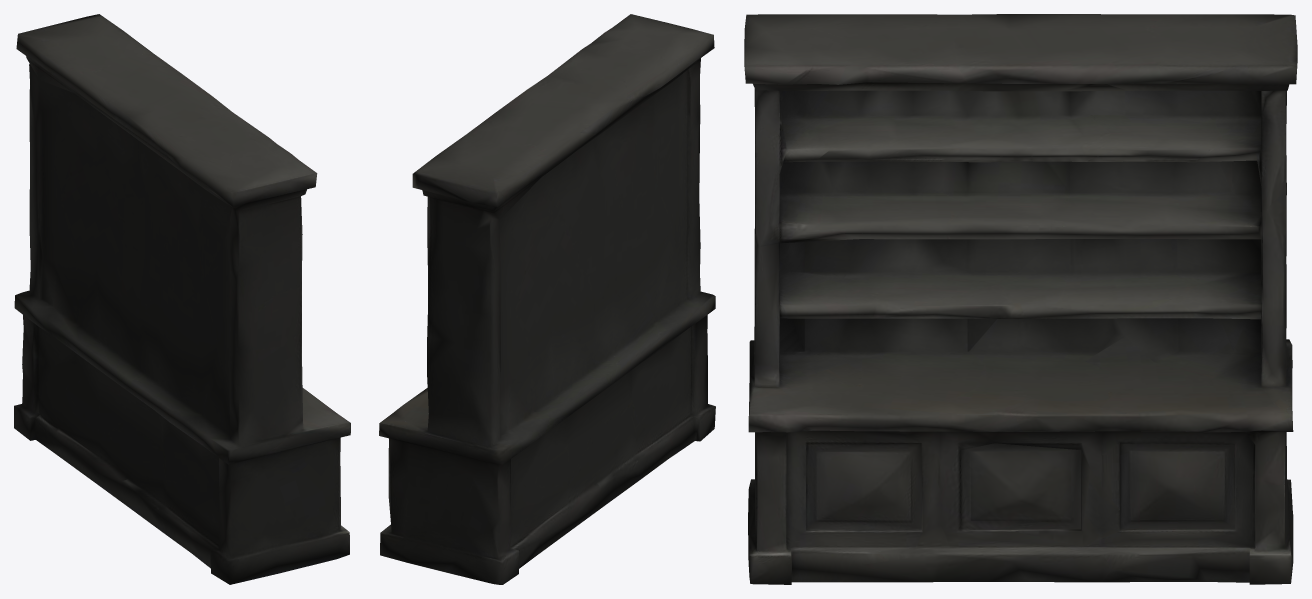
Rendered from kitchen_dresser.glb.
The picture shows the model from 3 angles, left to right: view 1: azimuth 30°, elevation 25°; view 2: azimuth 150°, elevation 25°; view 3: azimuth 270°, elevation 25°; orthographic projection. The views are drawn at different scales.
Parts seen in each view (by area): view 1: tripo_node_c007cb09-cd8d-4212-9113-6ef5fe7601d2; view 2: tripo_node_c007cb09-cd8d-4212-9113-6ef5fe7601d2; view 3: tripo_node_c007cb09-cd8d-4212-9113-6ef5fe7601d2.
Boxes of the visible parts, x1,y1,x2,y2 form: tripo_node_c007cb09-cd8d-4212-9113-6ef5fe7601d2: (14, 14, 350, 584); tripo_node_c007cb09-cd8d-4212-9113-6ef5fe7601d2: (379, 14, 715, 584); tripo_node_c007cb09-cd8d-4212-9113-6ef5fe7601d2: (744, 14, 1297, 584).
Size of the model in its own units: 0.3281 by 0.9943 by 1.
Materials: 1 (1 with a texture image).
